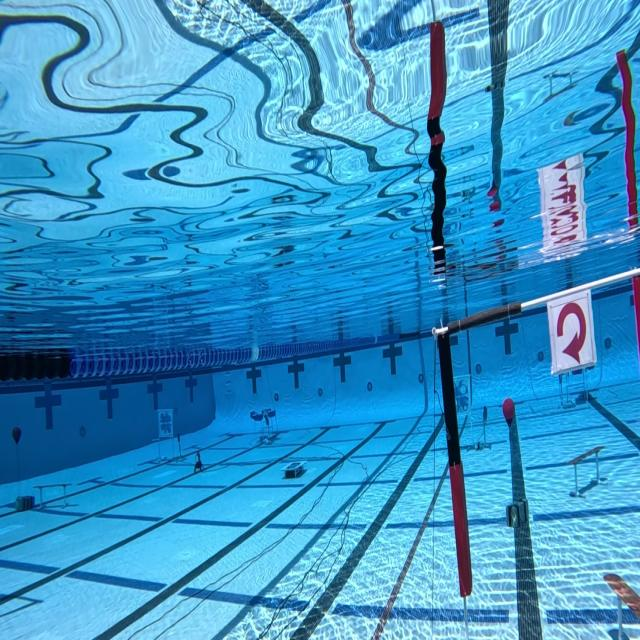red_side: (548, 291, 597, 374)
